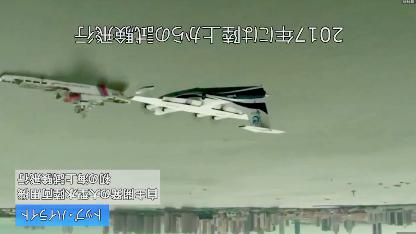AG600: (127, 84, 287, 134)
